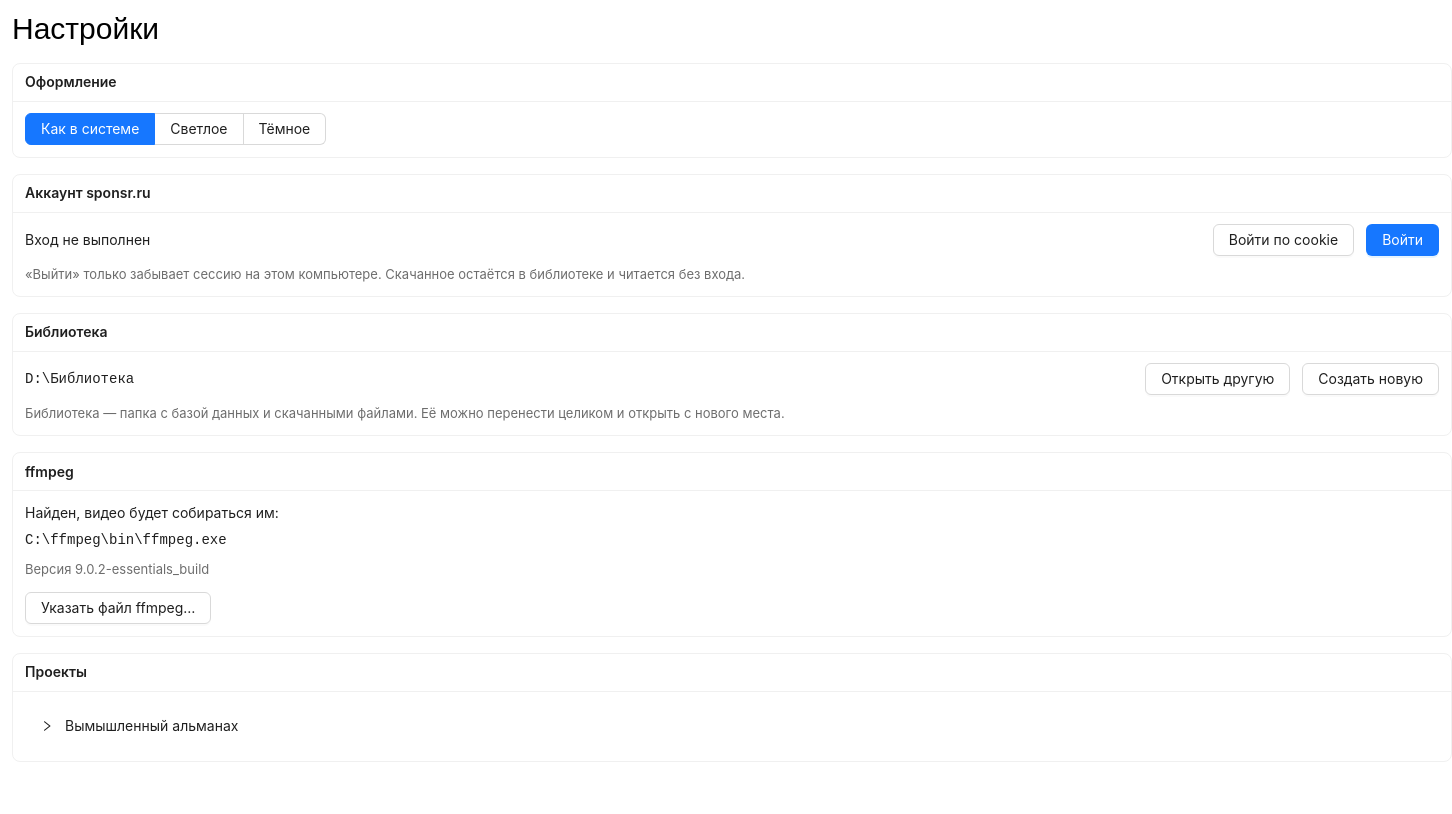
Test: SettingsView › explains why the library could not be switched
The width and height of the screenshot is (1452, 814).
Click the button "Создать новую" at (1371, 379), box [1302,363,1439,395]
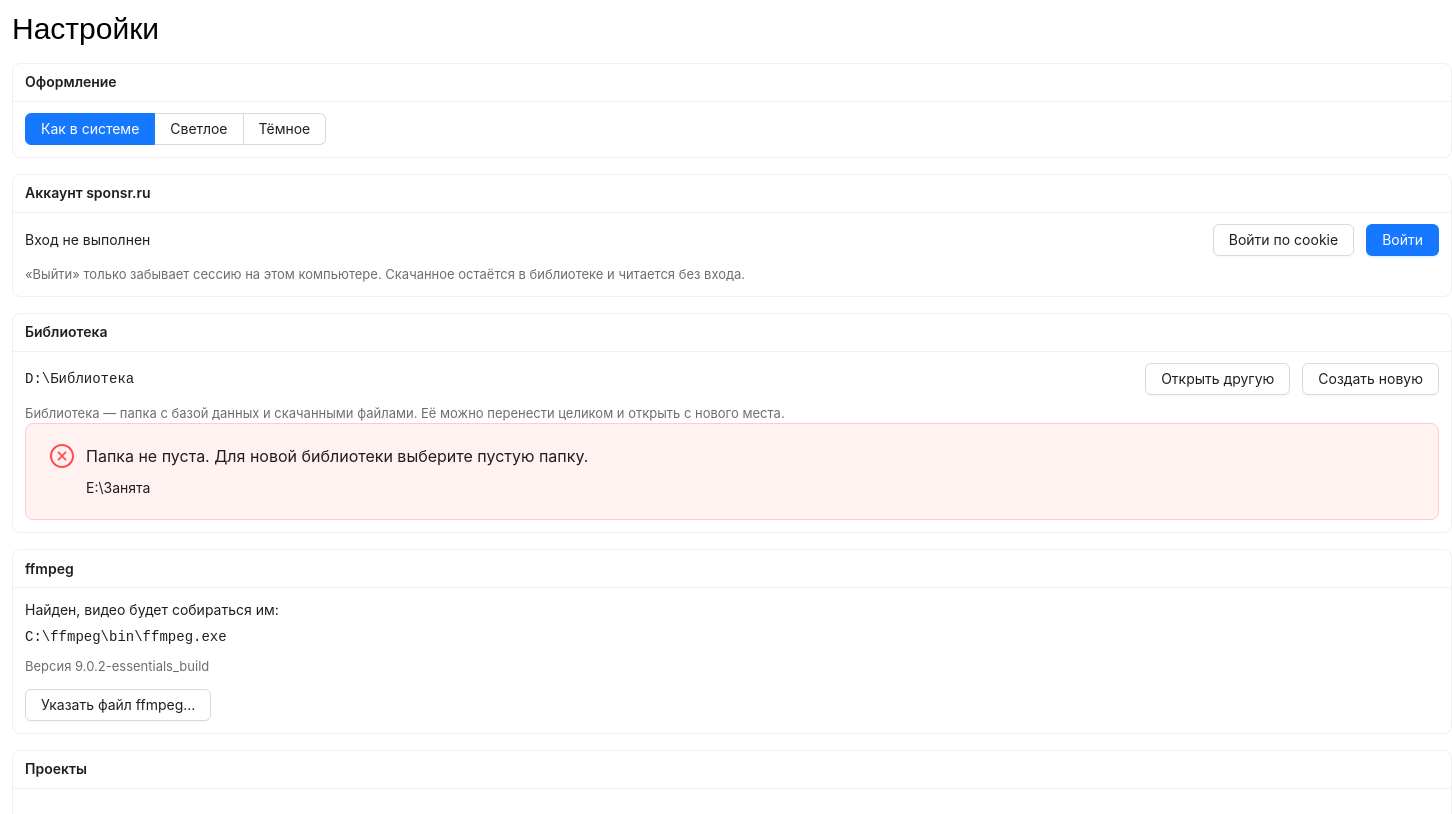
Check: the text "Папка не пуста" is shown, box [86,446,588,466]
Click the button "Открыть другую" at (1218, 379), box [1145,363,1290,395]
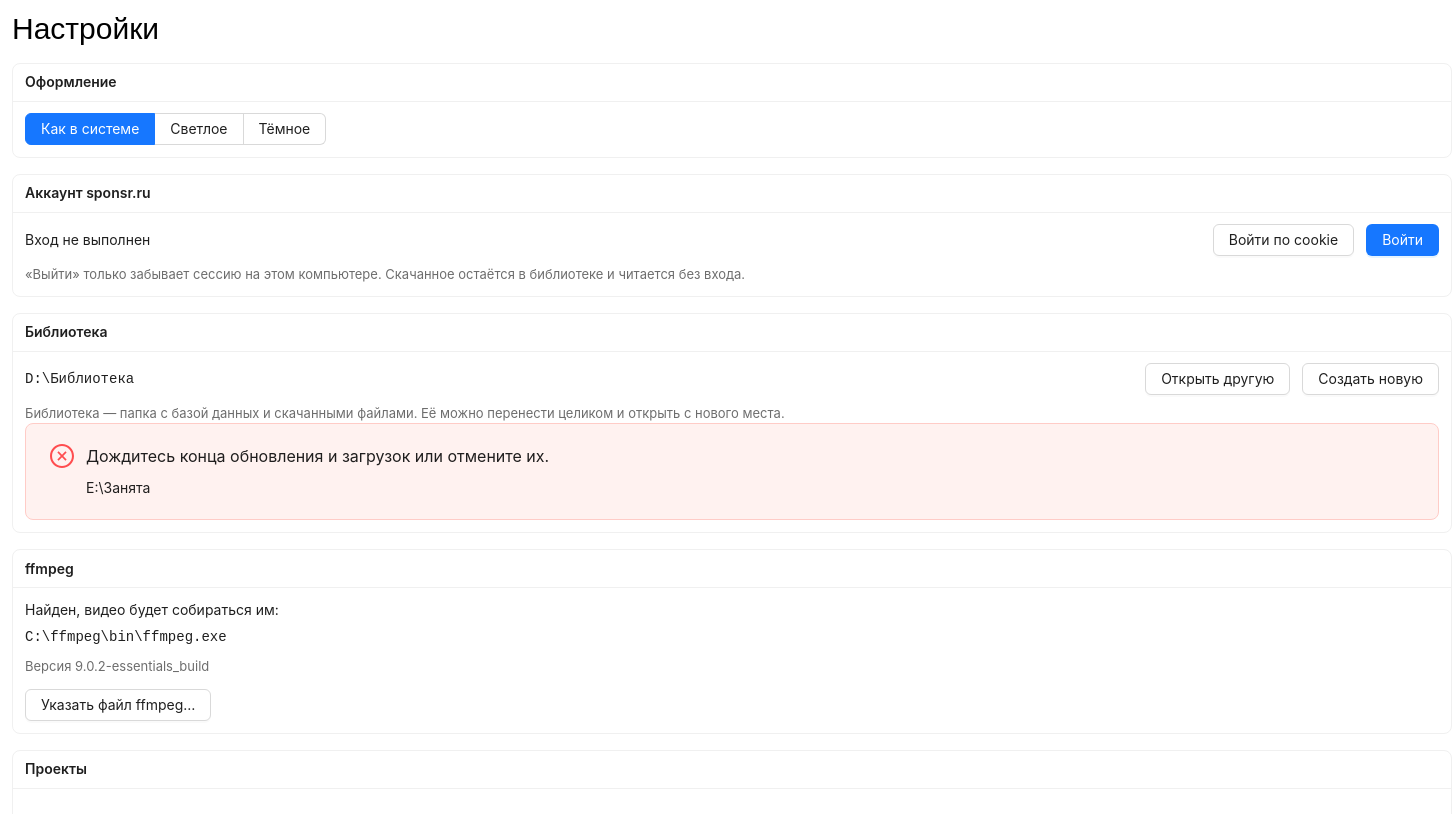
Check: the text "Дождитесь конца обновления и загрузок" is shown, box [86,446,549,466]
